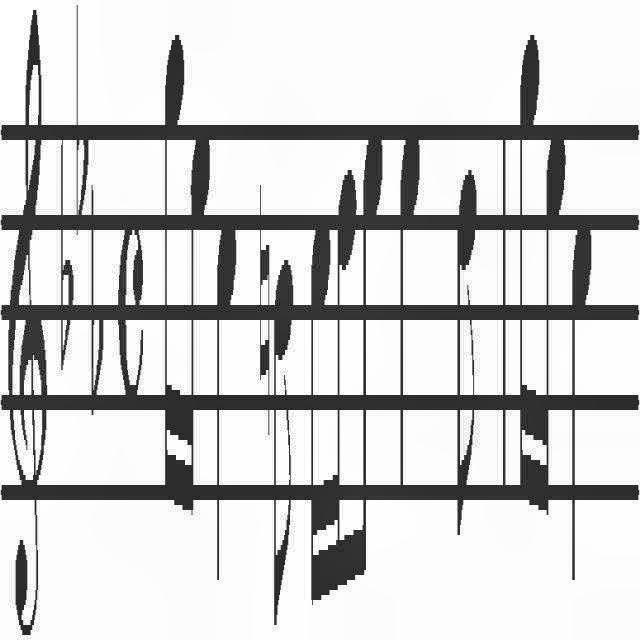Bass-clef: (5, 0, 50, 640)
Bemol: (68, 0, 88, 240), (88, 165, 104, 422), (59, 115, 73, 388)
Eighth-note: (360, 61, 384, 584), (270, 240, 298, 640), (453, 158, 482, 542)
Quarter-note: (392, 96, 420, 526), (214, 201, 240, 583), (568, 204, 592, 616)
Sixteenth-note: (158, 6, 184, 534), (514, 9, 540, 524), (332, 145, 360, 610), (186, 102, 214, 532), (305, 200, 331, 640), (541, 100, 567, 524)
